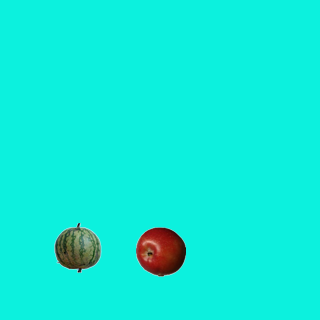Apple Braeburn: (135, 226, 185, 276)
Watermelon: (52, 222, 102, 272)
